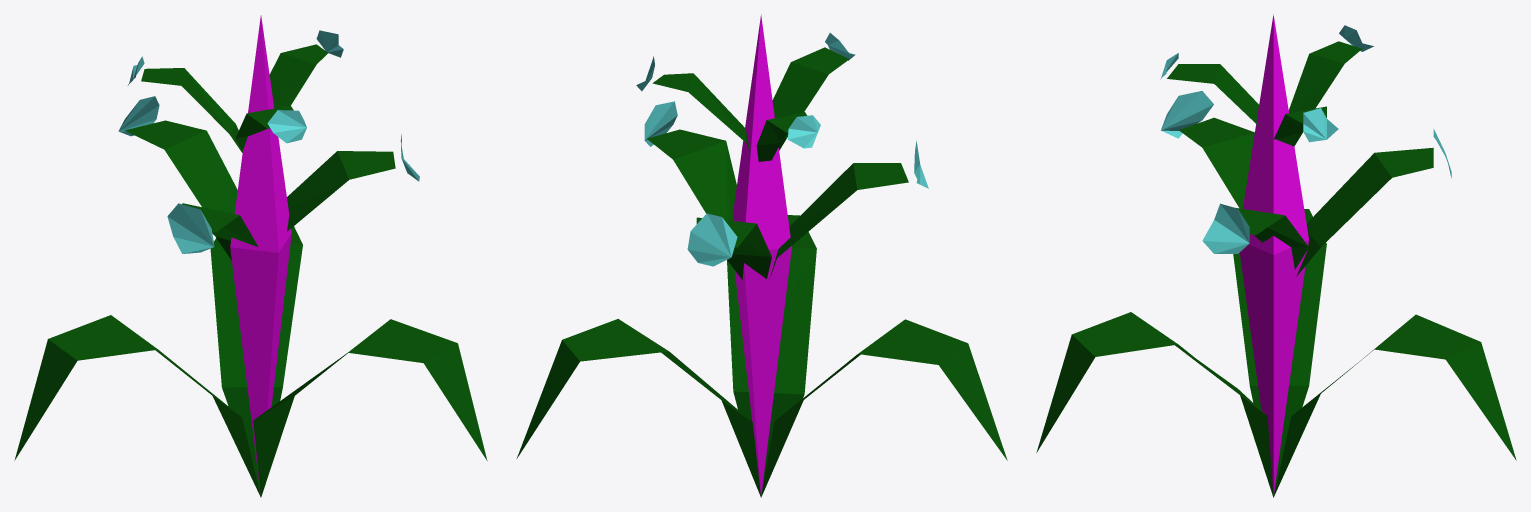
File: flax.obj
The picture shows the model from 3 angles, left to right: view 1: azimuth 30°, elevation 25°; view 2: azimuth 150°, elevation 25°; view 3: azimuth 270°, elevation 25°; orthographic projection.
Parts seen in each view (by area): view 1: flax_back; view 2: flax_back; view 3: flax_back.
Boxes of the visible parts, x1=… form: flax_back: x1=14, y1=15, x2=487, y2=497; flax_back: x1=516, y1=14, x2=1007, y2=497; flax_back: x1=1036, y1=14, x2=1516, y2=497.
Bounding box in the file's own units: 0.73 × 0.9 × 0.81.
